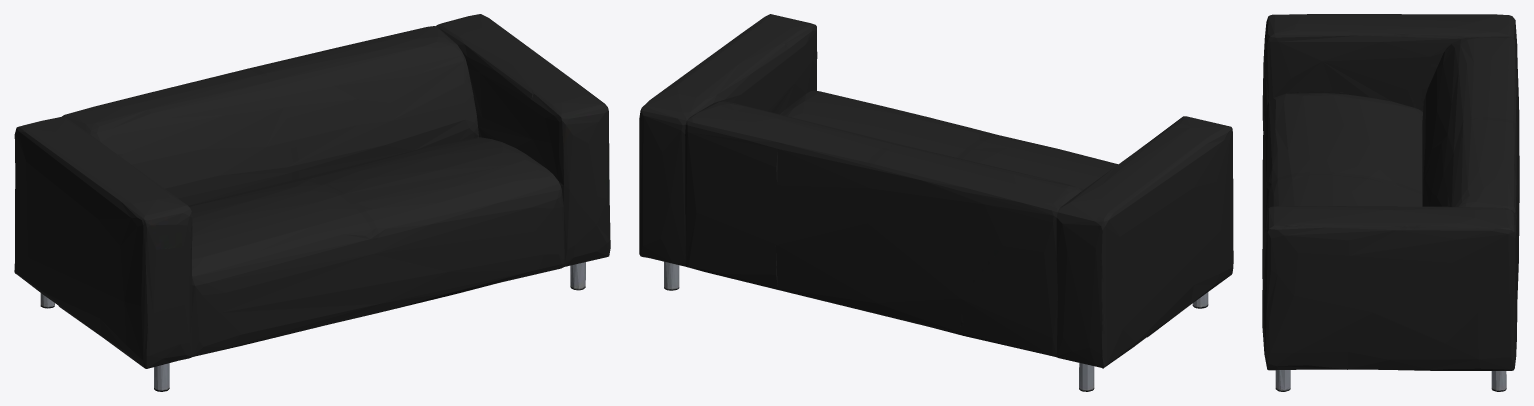
3 renders of one model, left to right at view 1: azimuth 30°, elevation 25°; view 2: azimuth 150°, elevation 25°; view 3: azimuth 270°, elevation 25°, orthographic. The views are drawn at different scales.
Parts seen in each view (by area): view 1: ProcessedGeometry; view 2: ProcessedGeometry; view 3: ProcessedGeometry.
Part boxes in pixels (x1,y1,x2,y2): ProcessedGeometry: (14, 14, 610, 391); ProcessedGeometry: (639, 14, 1233, 391); ProcessedGeometry: (1262, 14, 1519, 391).
Size of the model in its own units: 1.77 by 0.6599 by 0.8799.
1 material, 1 textured.
